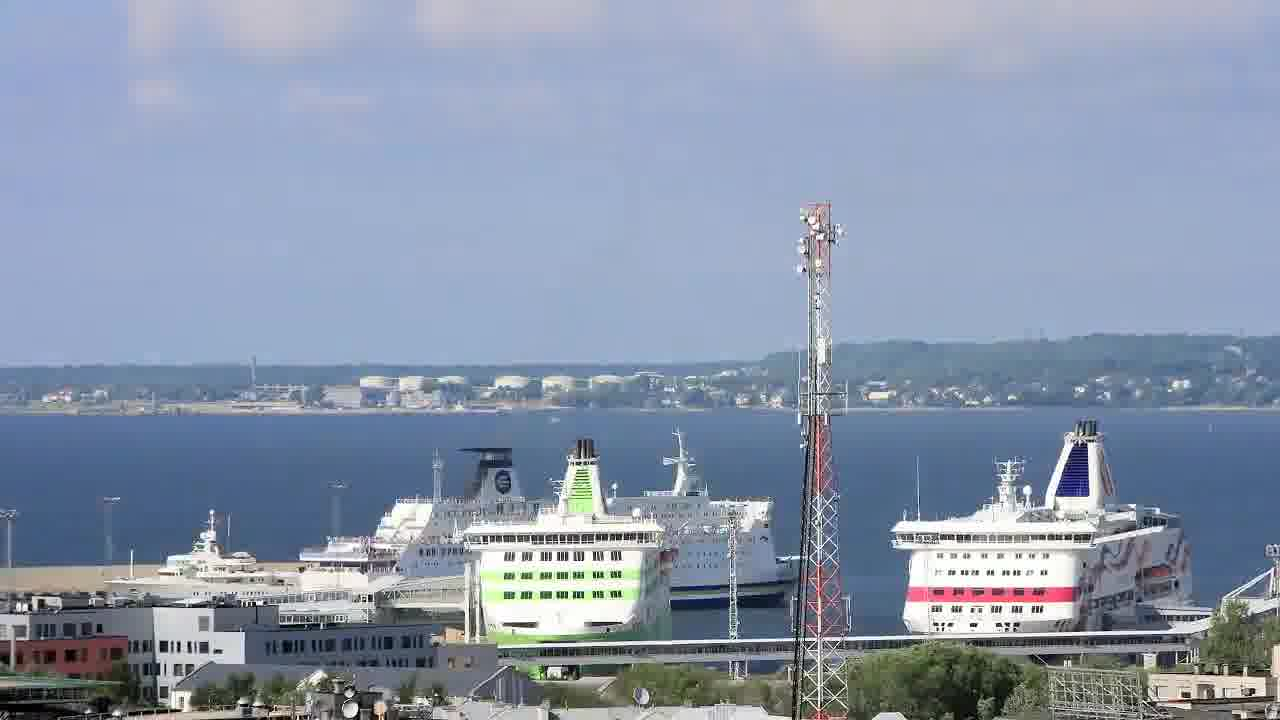type-3: (291, 420, 810, 627), (868, 415, 1225, 638), (436, 434, 694, 670), (88, 522, 315, 629)
